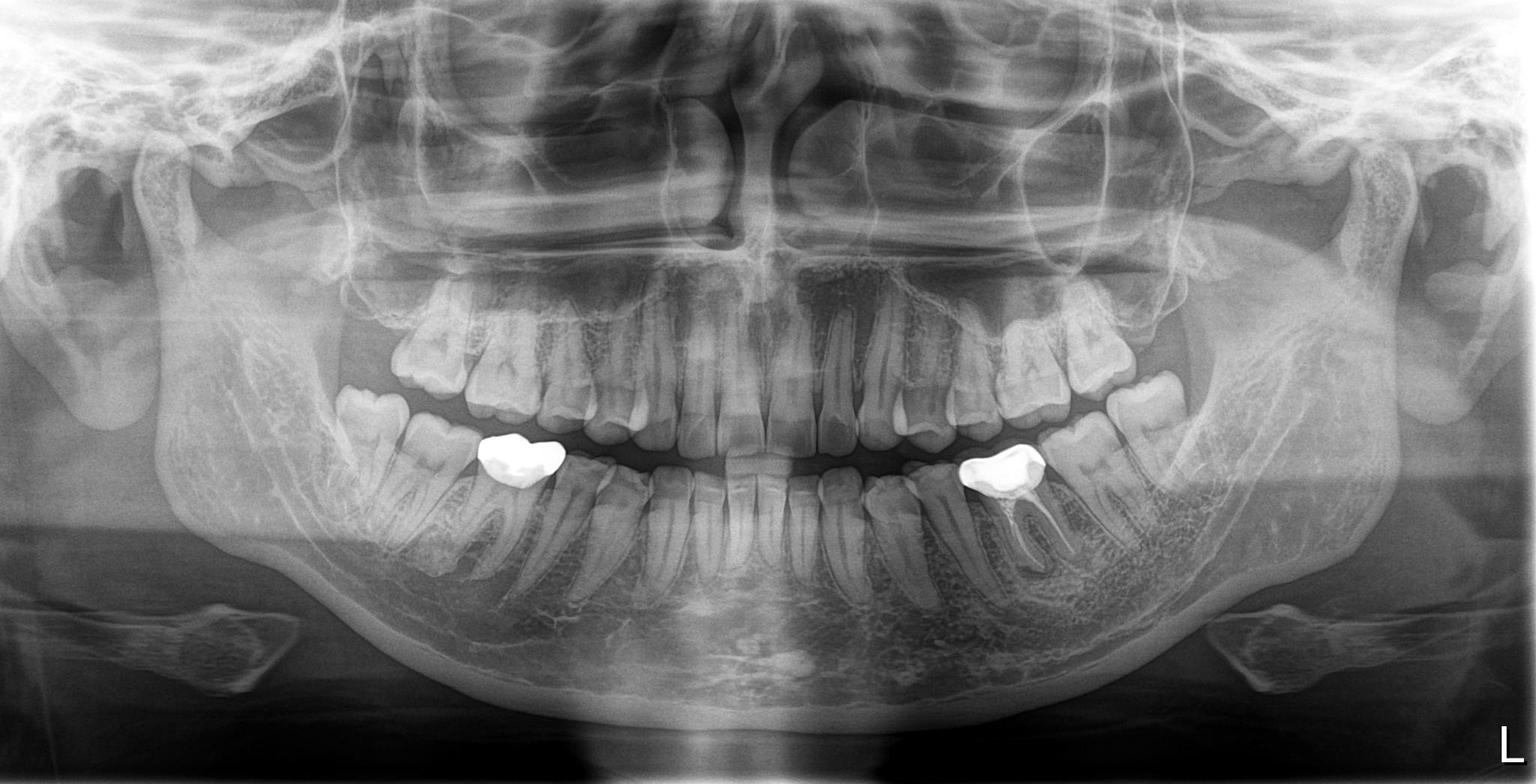Endodontically Treated Tooth: (966, 456, 1078, 586), (484, 435, 559, 561)
Missing Tooth: (1127, 283, 1201, 379), (341, 259, 403, 366)
